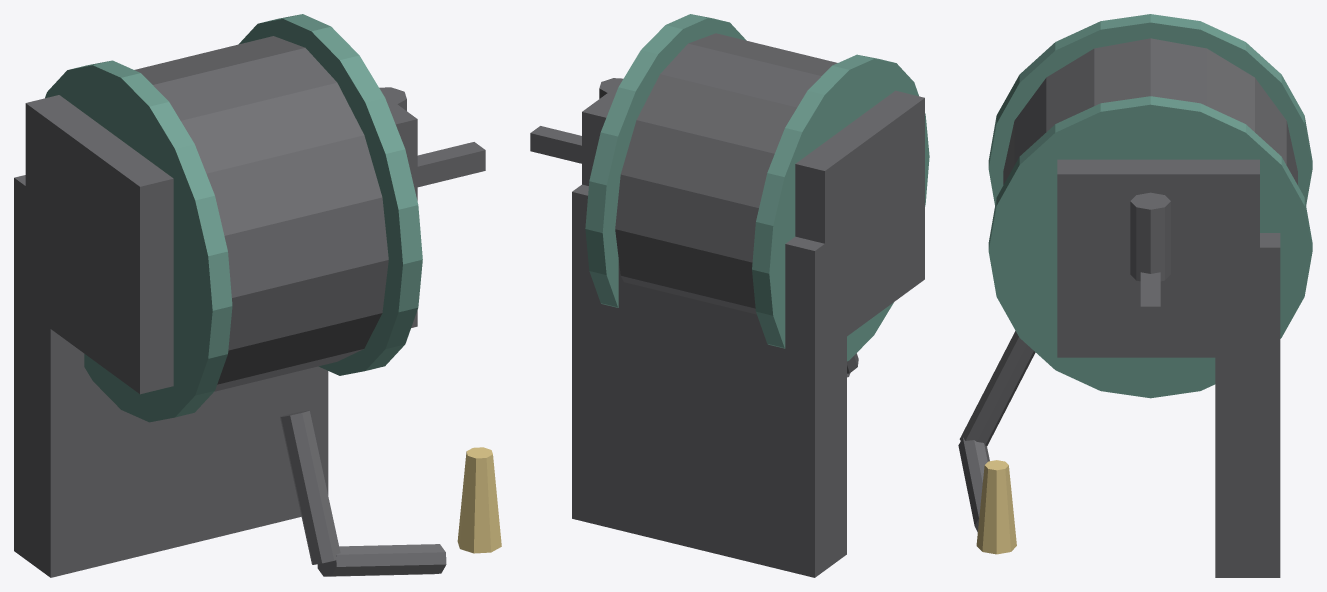
File: distillery-and-bonded-warehouse-hose-reel-36a67f4a__38683.glb
3 views of the same model, side by side, from view 1: azimuth 30°, elevation 25°; view 2: azimuth 150°, elevation 25°; view 3: azimuth 270°, elevation 25° (orthographic). The views are drawn at different scales.
Visible parts, largest first — view 1: hose-reel-iron, hose-reel-paint, hose-reel-brass; view 2: hose-reel-iron, hose-reel-paint; view 3: hose-reel-iron, hose-reel-paint, hose-reel-brass.
Boxes of the visible parts, x1,y1,x2,y2 form: hose-reel-iron: (14,36,485,577); hose-reel-paint: (45,14,422,422); hose-reel-brass: (457,447,501,553); hose-reel-iron: (530,33,924,577); hose-reel-paint: (585,14,929,361); hose-reel-iron: (958,38,1297,577); hose-reel-paint: (988,14,1312,398); hose-reel-brass: (976,460,1016,554).
Bounding box in the file's own units: 0.9901 × 1.25 × 0.8747.
